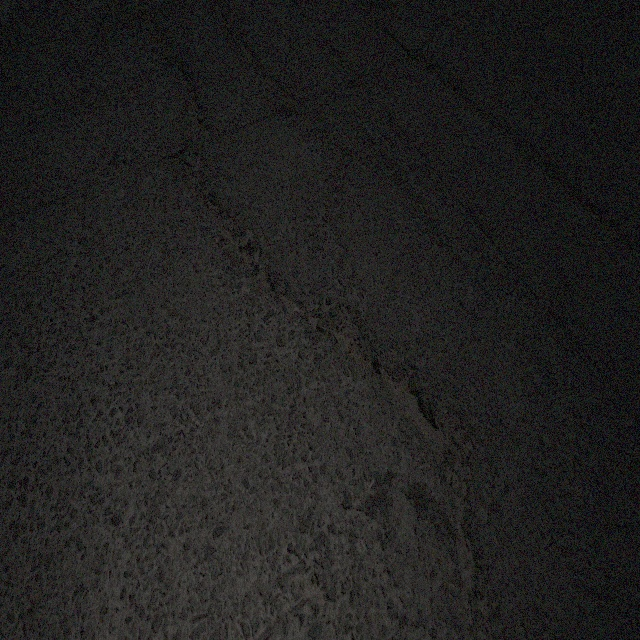pothole: (388, 359, 459, 468)
